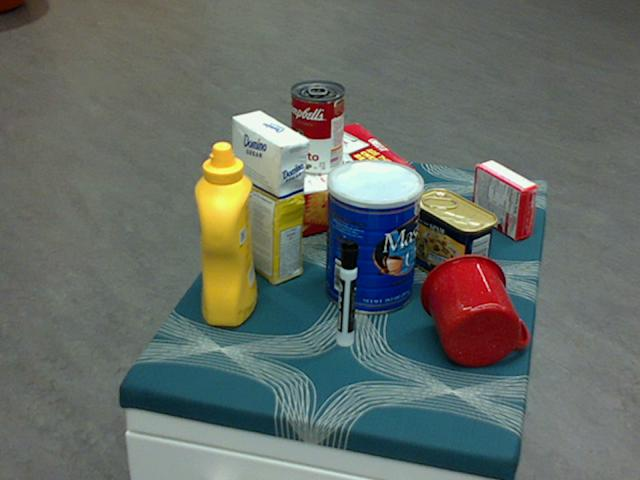cracker_box: (215, 122, 415, 247)
gelatin_box: (473, 160, 539, 240)
large_marker: (337, 239, 357, 348)
master_chef_can: (326, 158, 423, 314)
mug: (420, 252, 527, 366)
mustard_bottle: (194, 142, 257, 327)
potted_meat_can: (412, 188, 498, 288)
sugar_box: (231, 111, 307, 286)
tomato_soup_can: (290, 81, 345, 175)
tuna_fish_can: (339, 165, 411, 236)
